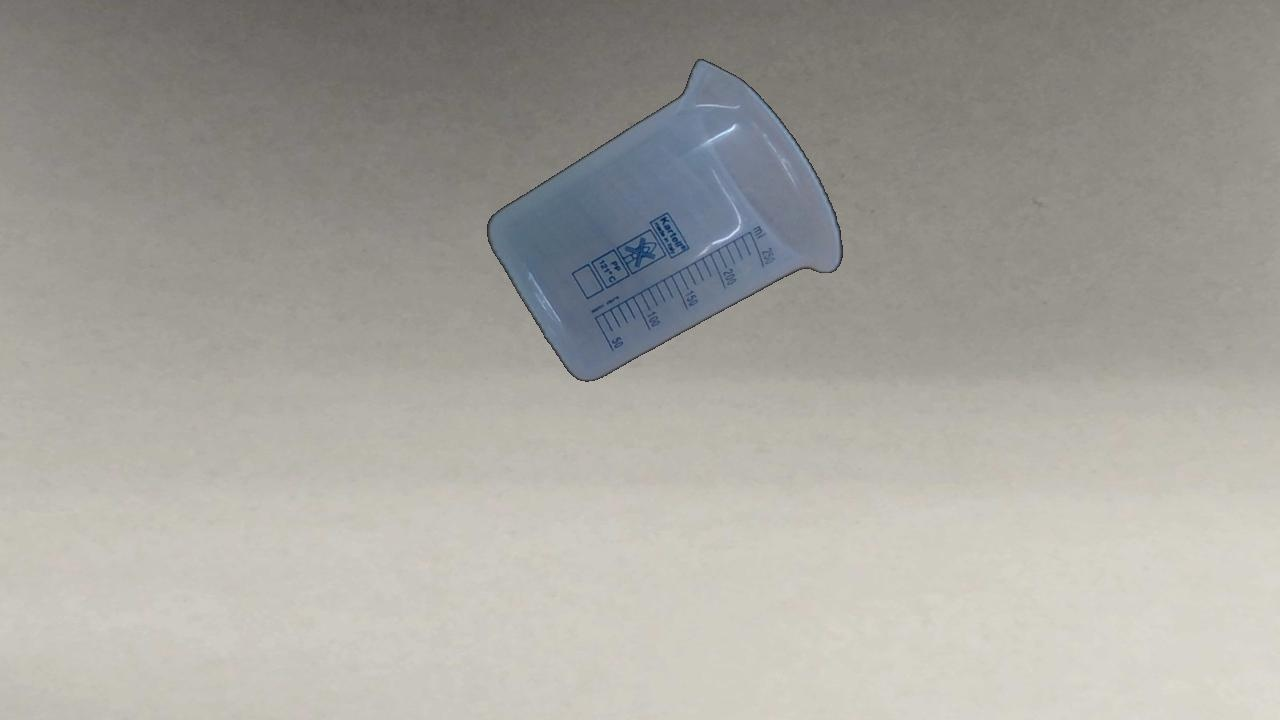becker: (485, 57, 845, 384)
